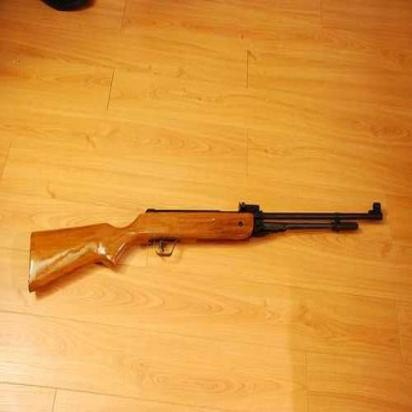Gun: (27, 193, 397, 330)
